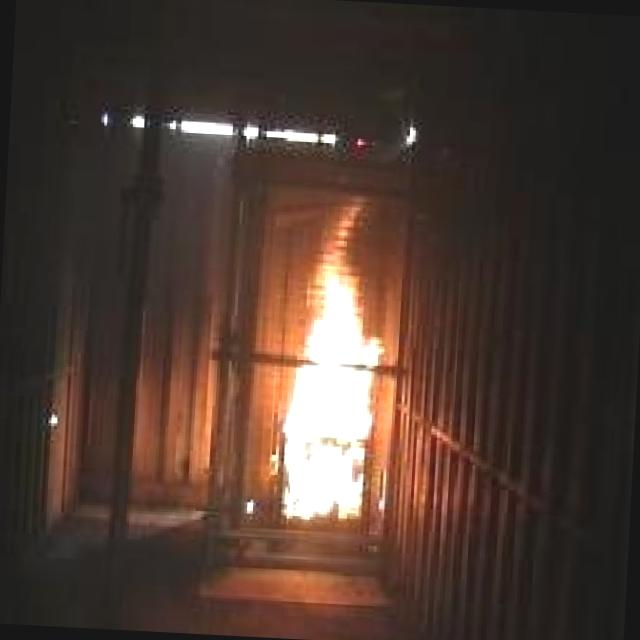fire: (262, 229, 394, 532)
